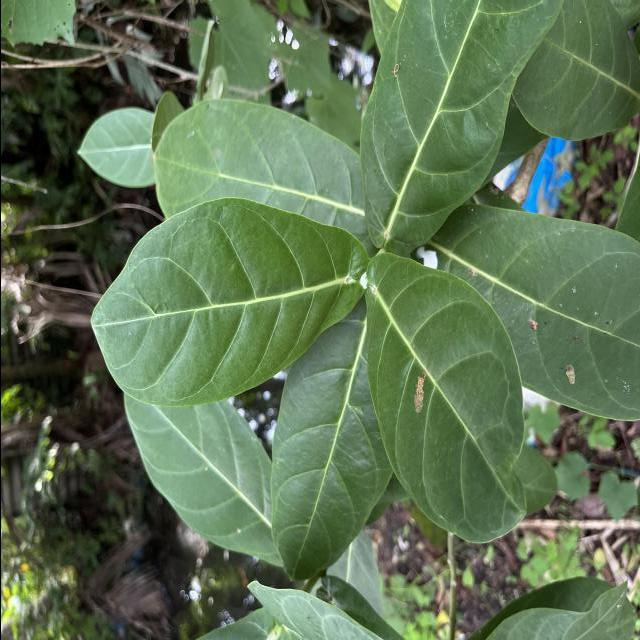Calotropis gigantea: (87, 196, 368, 410), (356, 0, 564, 257), (412, 202, 640, 423), (362, 250, 526, 546), (268, 294, 393, 582), (150, 97, 366, 240), (121, 391, 281, 569), (74, 104, 156, 190)
